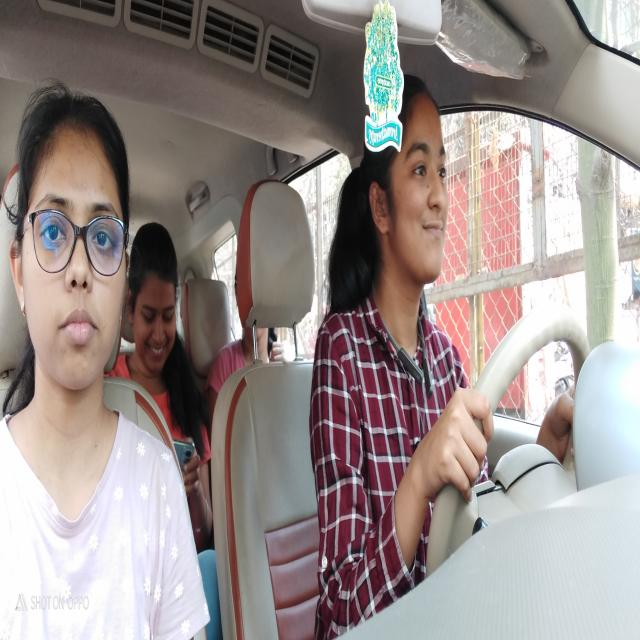person: (9, 86, 133, 375), (367, 76, 453, 292), (127, 216, 181, 384)
